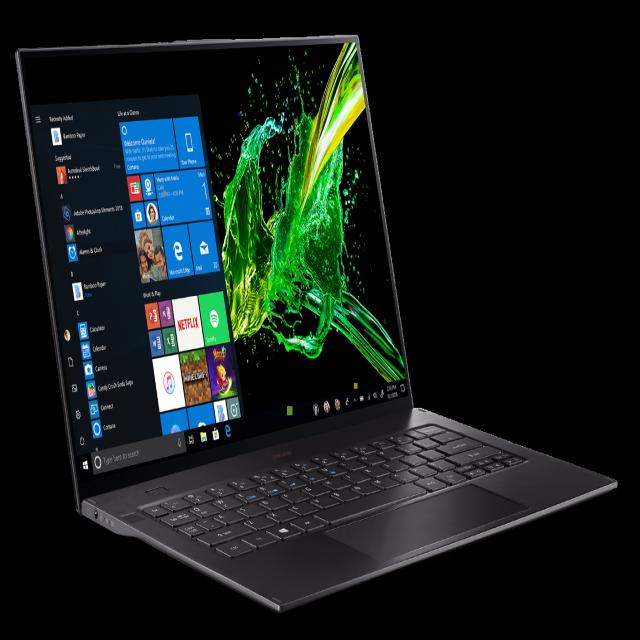dead_pixel: (287, 406, 292, 415), (136, 182, 139, 187), (354, 383, 357, 388), (163, 191, 165, 194), (238, 112, 240, 115), (305, 130, 306, 132)
